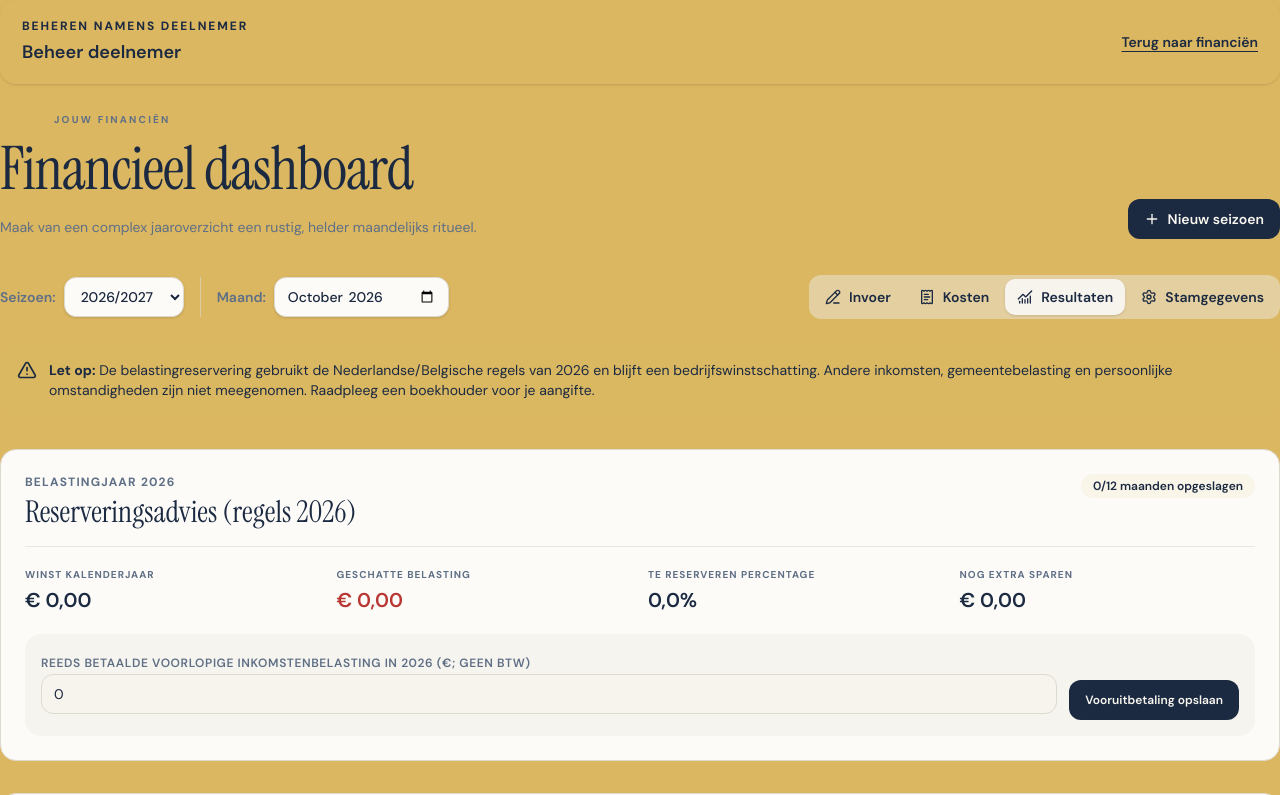
bescherming van niet-opgeslagen financiële maandinvoer › laat beheerders na wisselen naar een leeg seizoen geen oude maandgegevens zien
Click the button with test id "tab-input" at (858, 297), box [813,279,903,315]
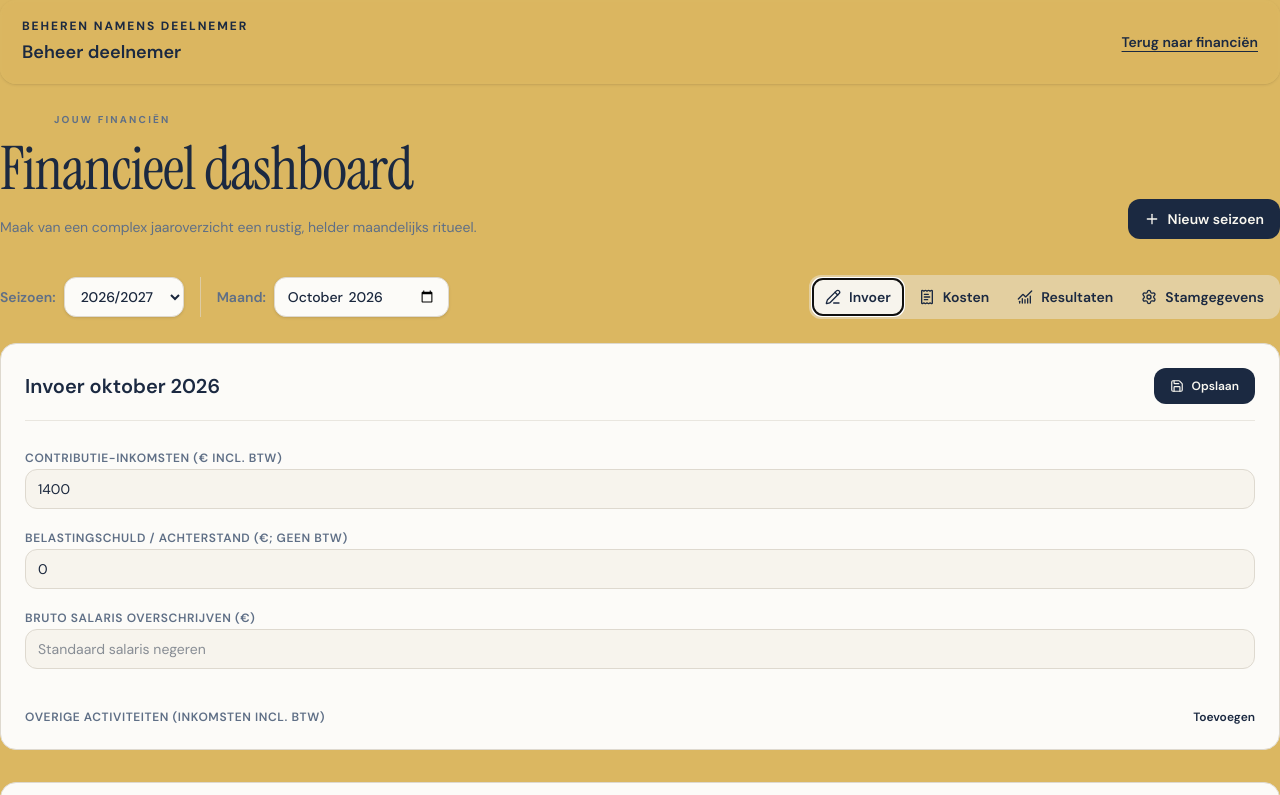
Select "2025/2026" in the dropdown with test id "select-season" at (124, 297), box [64,277,184,317]
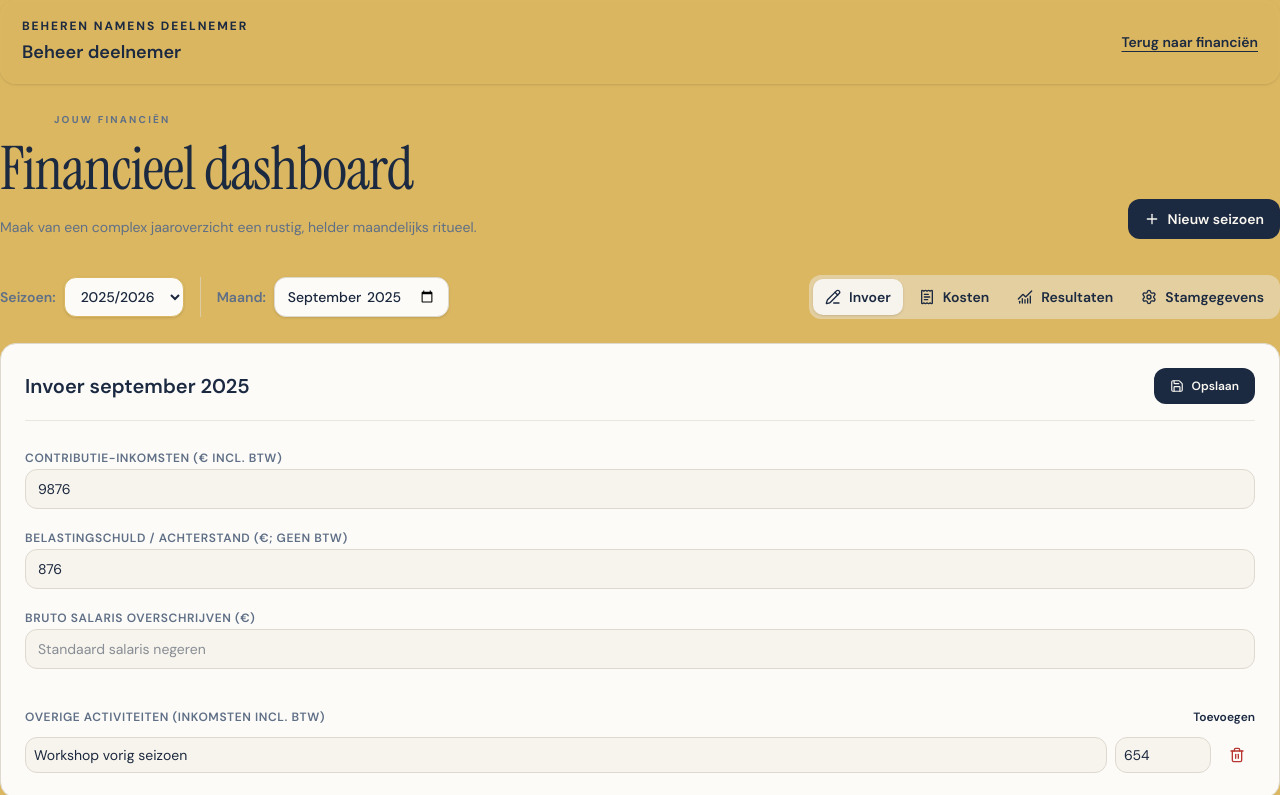
Result: the field labelled "Contributie-inkomsten (€ incl. btw)" holds "9876" at [25,469,1255,509]
Result: the 1st field with placeholder "Activiteit" holds "Workshop vorig seizoen" at [25,737,1107,773]
Click the button with test id "tab-costs" at (954, 297), box [907,279,1001,315]
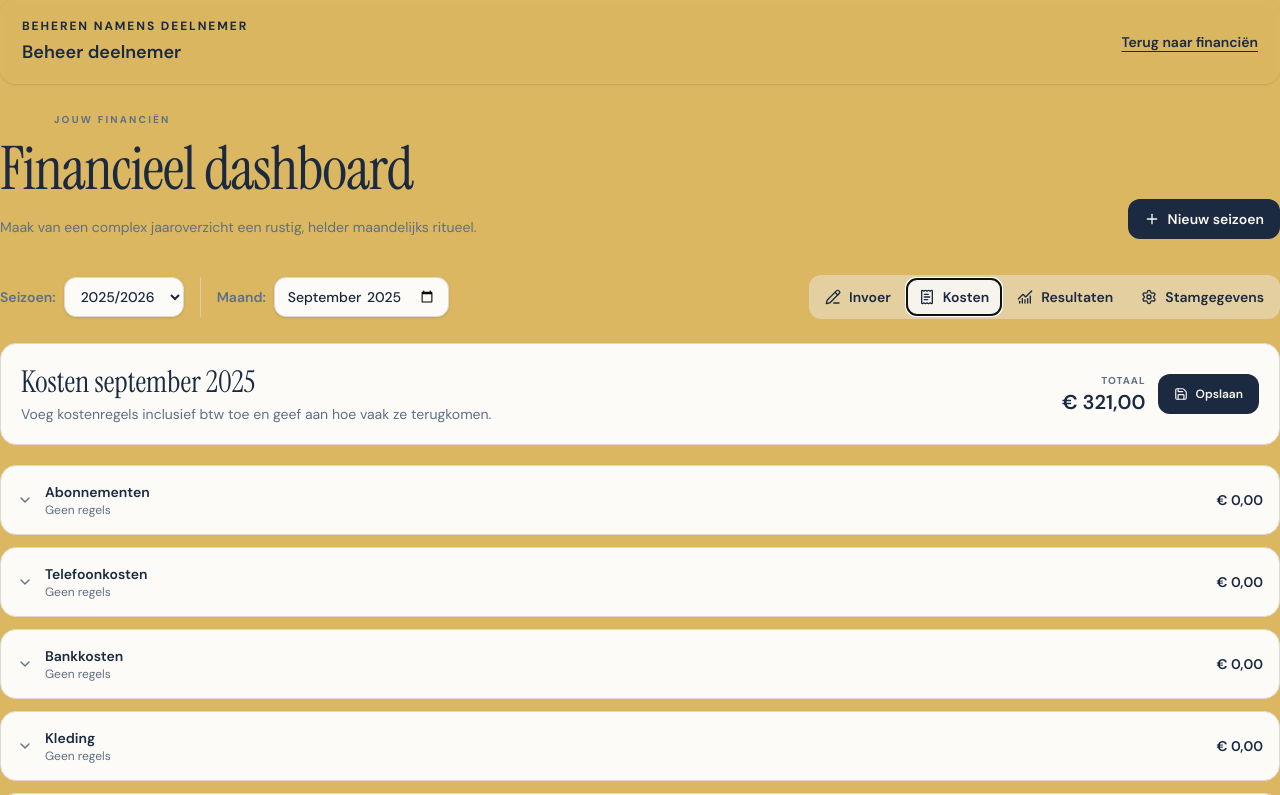
Select "2026/2027" in the dropdown with test id "select-season" at (124, 297), box [64,277,184,317]
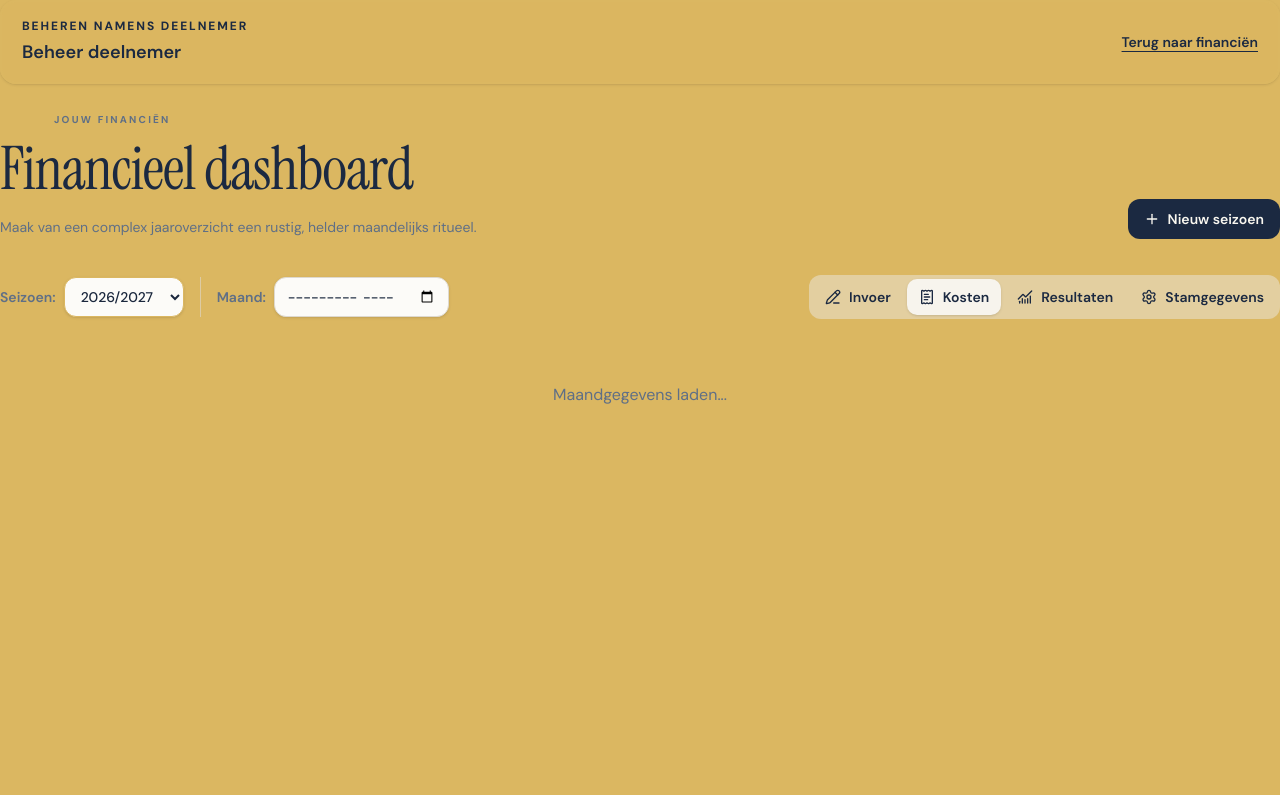
Click the button with test id "tab-results" at (1065, 297), box [1005,279,1125,315]
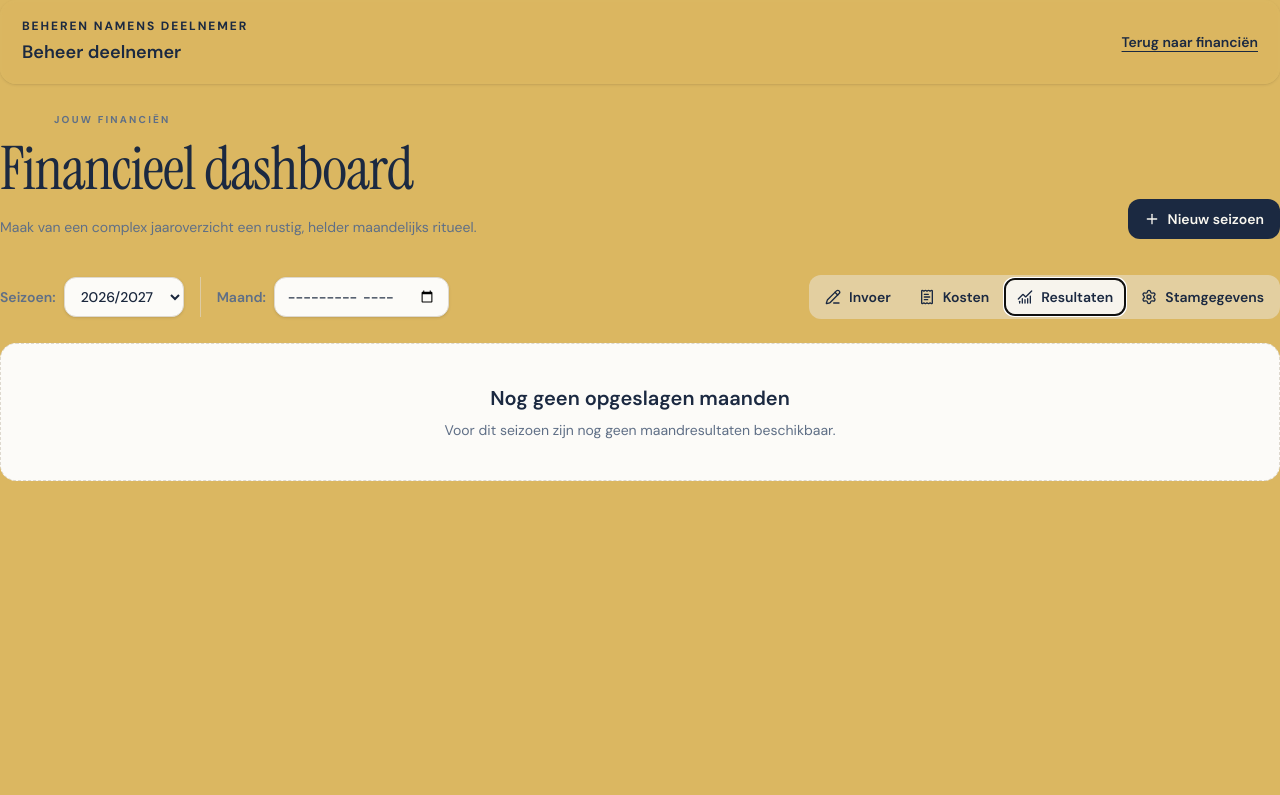
Expected: the field showing "9876" is not shown
Result: the element with test id "empty-financial-season" is shown at [0,343,1279,481]
Result: the heading "Nog geen opgeslagen maanden" is shown at [490,385,790,411]
